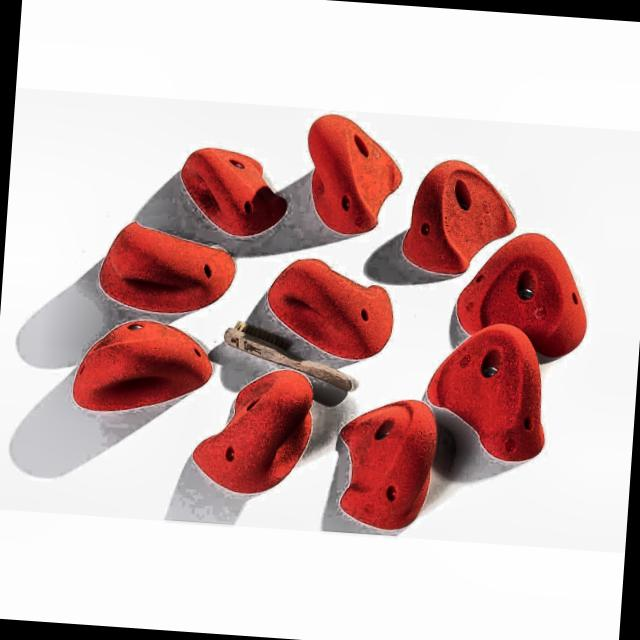Hold: (422, 324, 566, 474), (444, 228, 594, 363), (182, 361, 320, 498), (256, 244, 404, 360), (334, 396, 444, 534), (75, 317, 213, 423), (403, 151, 518, 278), (295, 106, 399, 236), (101, 218, 229, 307), (172, 140, 288, 236)
